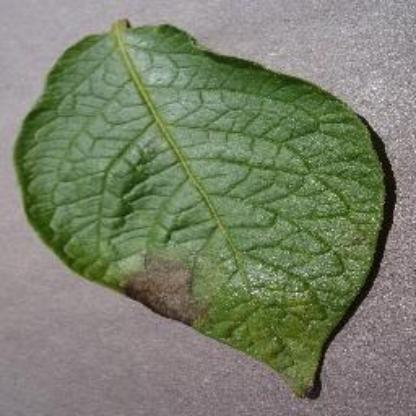Late-Blight: (15, 22, 387, 390)
